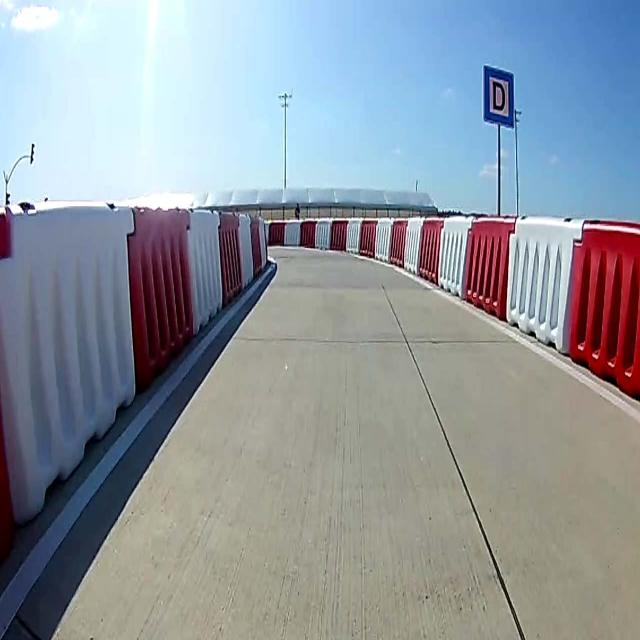durak: (482, 64, 514, 130)
